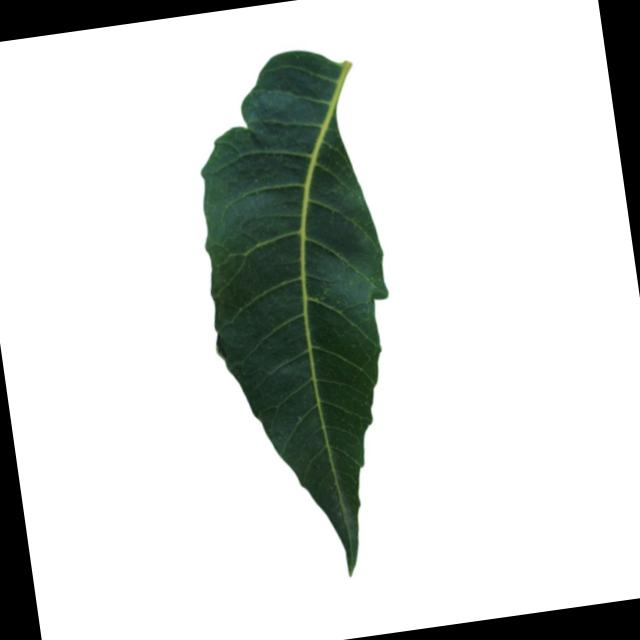Medicinal-Neem: (174, 36, 428, 590)
